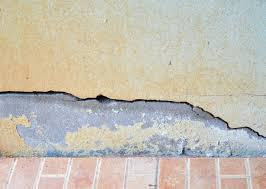Crack: (1, 90, 266, 140)
Spalling: (1, 90, 266, 157)
